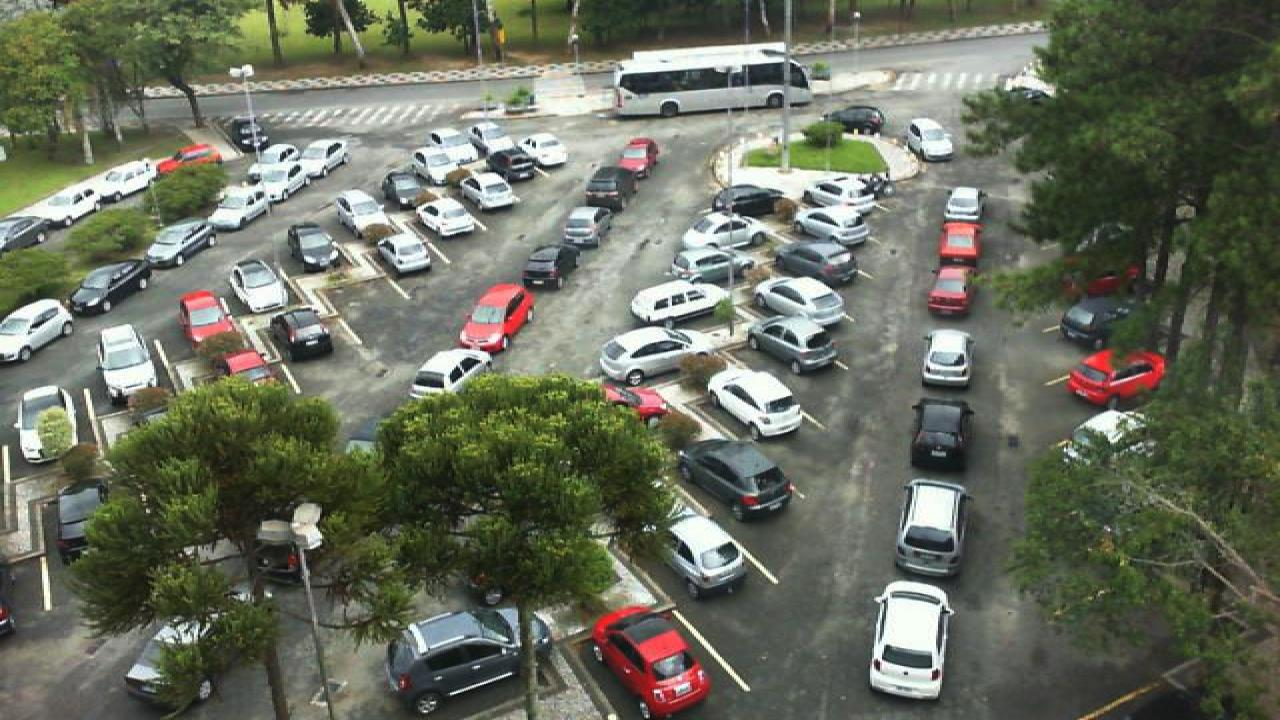Car: (382, 606, 544, 716), (588, 603, 712, 720), (676, 436, 798, 522), (868, 580, 952, 702), (124, 620, 224, 719), (656, 514, 750, 601), (894, 478, 970, 577), (704, 368, 804, 441), (596, 323, 698, 388), (1066, 348, 1168, 407), (630, 280, 734, 335), (456, 284, 536, 354), (748, 316, 842, 375), (14, 384, 80, 466), (754, 274, 850, 328), (910, 396, 976, 472), (68, 260, 154, 317), (0, 297, 72, 363), (1056, 292, 1136, 348), (410, 347, 494, 400), (50, 483, 104, 562), (98, 325, 156, 395), (142, 217, 218, 270), (670, 244, 762, 286), (774, 241, 858, 287), (268, 306, 336, 361), (180, 289, 240, 348), (230, 260, 290, 316), (920, 328, 974, 390), (600, 380, 672, 426), (30, 186, 112, 226), (206, 184, 272, 231), (792, 207, 870, 245), (798, 174, 880, 210), (706, 182, 790, 217), (286, 220, 342, 272), (682, 214, 758, 252), (84, 160, 160, 198), (416, 196, 484, 237), (520, 246, 580, 292), (242, 140, 304, 184), (212, 348, 272, 392), (926, 266, 976, 318), (0, 212, 58, 256), (586, 163, 640, 209), (376, 232, 432, 276), (332, 202, 388, 246), (458, 172, 518, 213), (904, 117, 956, 163), (414, 147, 472, 187), (292, 137, 350, 177), (936, 220, 982, 269), (480, 148, 540, 184), (560, 204, 604, 250), (820, 105, 886, 135), (152, 142, 218, 172), (612, 136, 660, 177), (382, 171, 430, 209), (516, 138, 570, 170), (274, 174, 320, 208), (944, 186, 984, 224)
